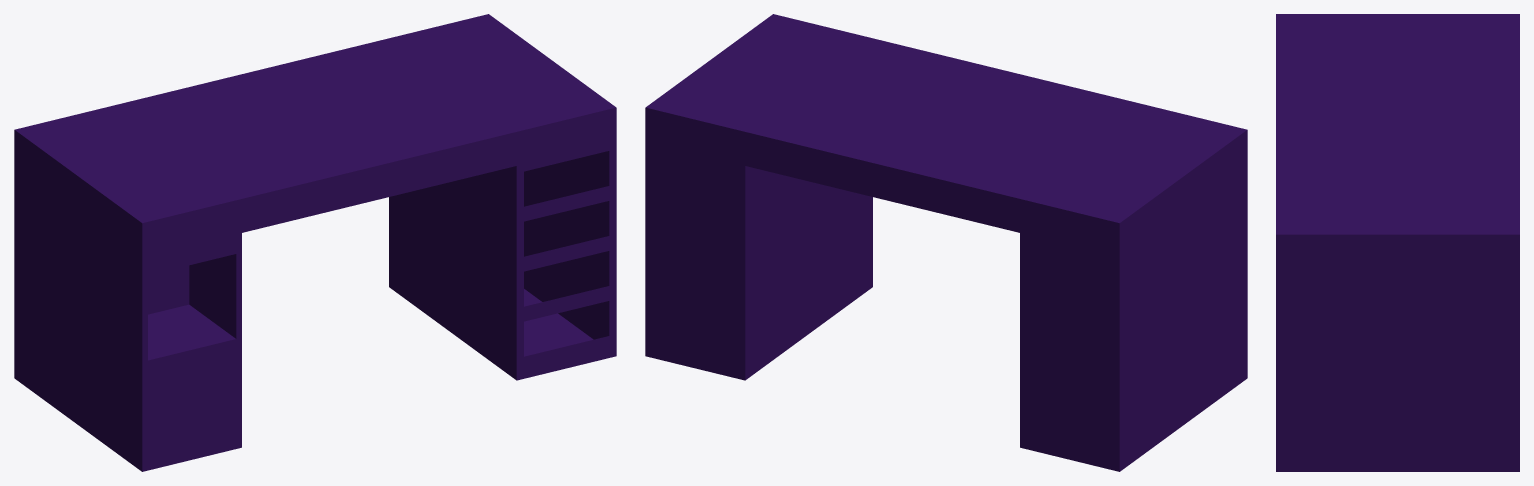
Rendered from Escritorio.fbx.
3 renders of one model, left to right at view 1: azimuth 30°, elevation 25°; view 2: azimuth 150°, elevation 25°; view 3: azimuth 270°, elevation 25°, orthographic. The views are drawn at different scales.
Parts seen in each view (by area): view 1: Mesa; view 2: Mesa; view 3: Mesa.
Part boxes in pixels (bbox=[...]): Mesa: bbox=[14, 14, 616, 471]; Mesa: bbox=[645, 14, 1247, 471]; Mesa: bbox=[1276, 14, 1519, 471].
Size of the model in its own units: 1.5 by 0.7518 by 0.7.
